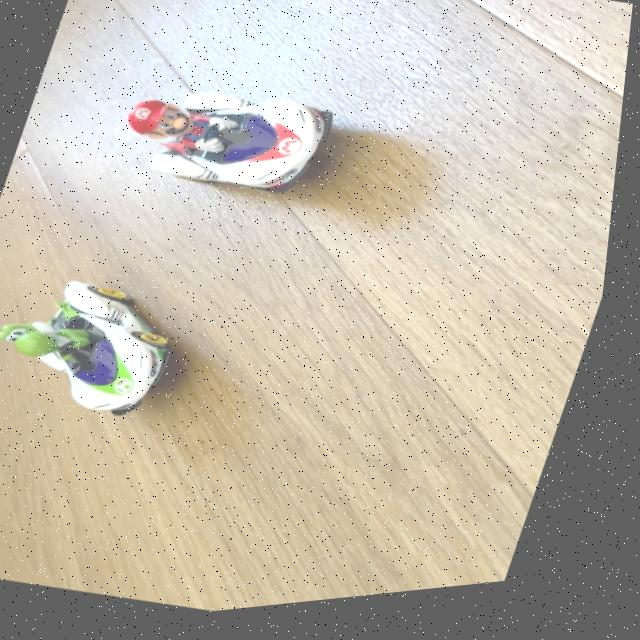mario: (97, 58, 361, 233)
yoshi: (0, 246, 216, 453)
